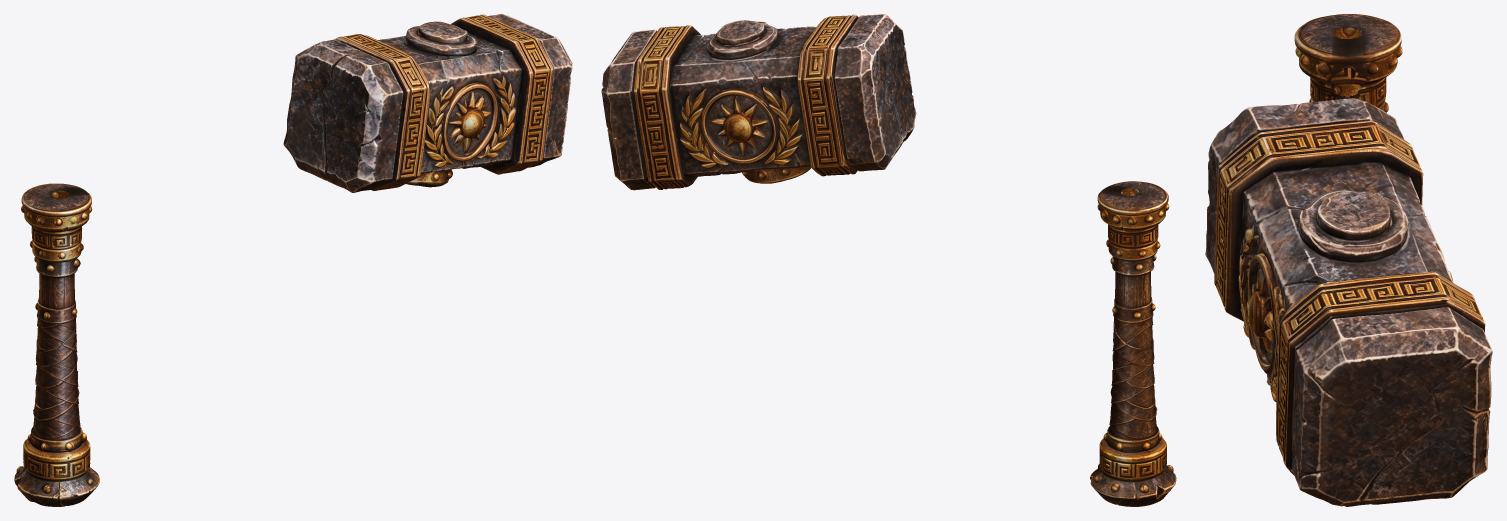
The model's file is weapon-runtime.glb.
3 views of the same model, side by side, from view 1: azimuth 30°, elevation 25°; view 2: azimuth 150°, elevation 25°; view 3: azimuth 270°, elevation 25° (orthographic). The views are drawn at different scales.
Parts seen in each view (by area): view 1: HammerHead, Handle; view 2: HammerHead, Handle; view 3: HammerHead, Handle.
Boxes of the visible parts, x1,y1,x2,y2 form: HammerHead: (283, 14, 572, 192); Handle: (14, 183, 99, 506); HammerHead: (601, 14, 916, 190); Handle: (1090, 181, 1176, 506); HammerHead: (1205, 98, 1492, 506); Handle: (1283, 14, 1402, 475).
Size of the model in its own units: 0.979 by 0.6652 by 0.2988.
49 materials, 49 textured.
